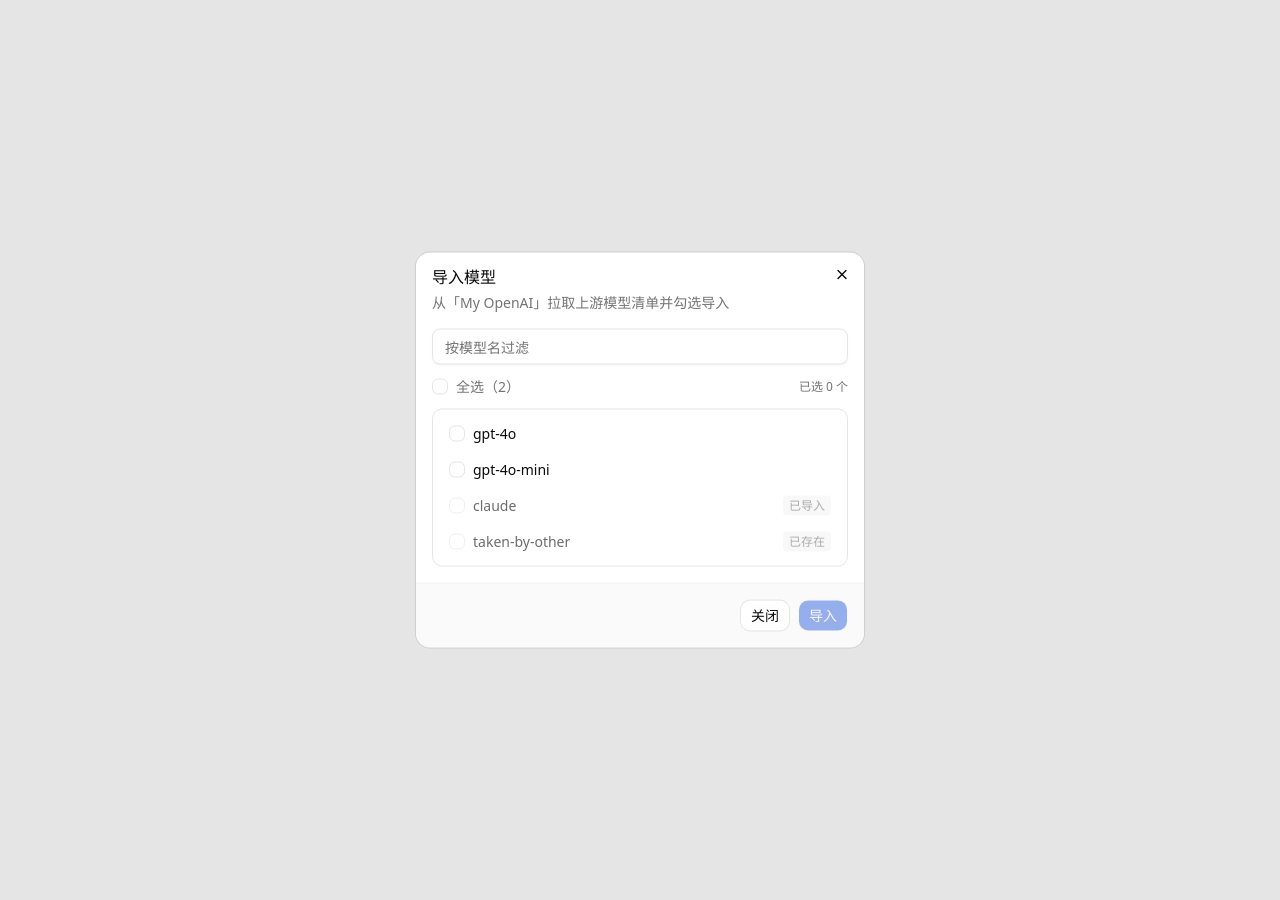
Test case: ImportModelsDialog › T-W18: does not report a successful import as failed when the follow-up refetch rejects (B-1)
Click the checkbox named "选择 gpt-4o".
click(457, 434)  # box left=449, top=426, right=465, bottom=442
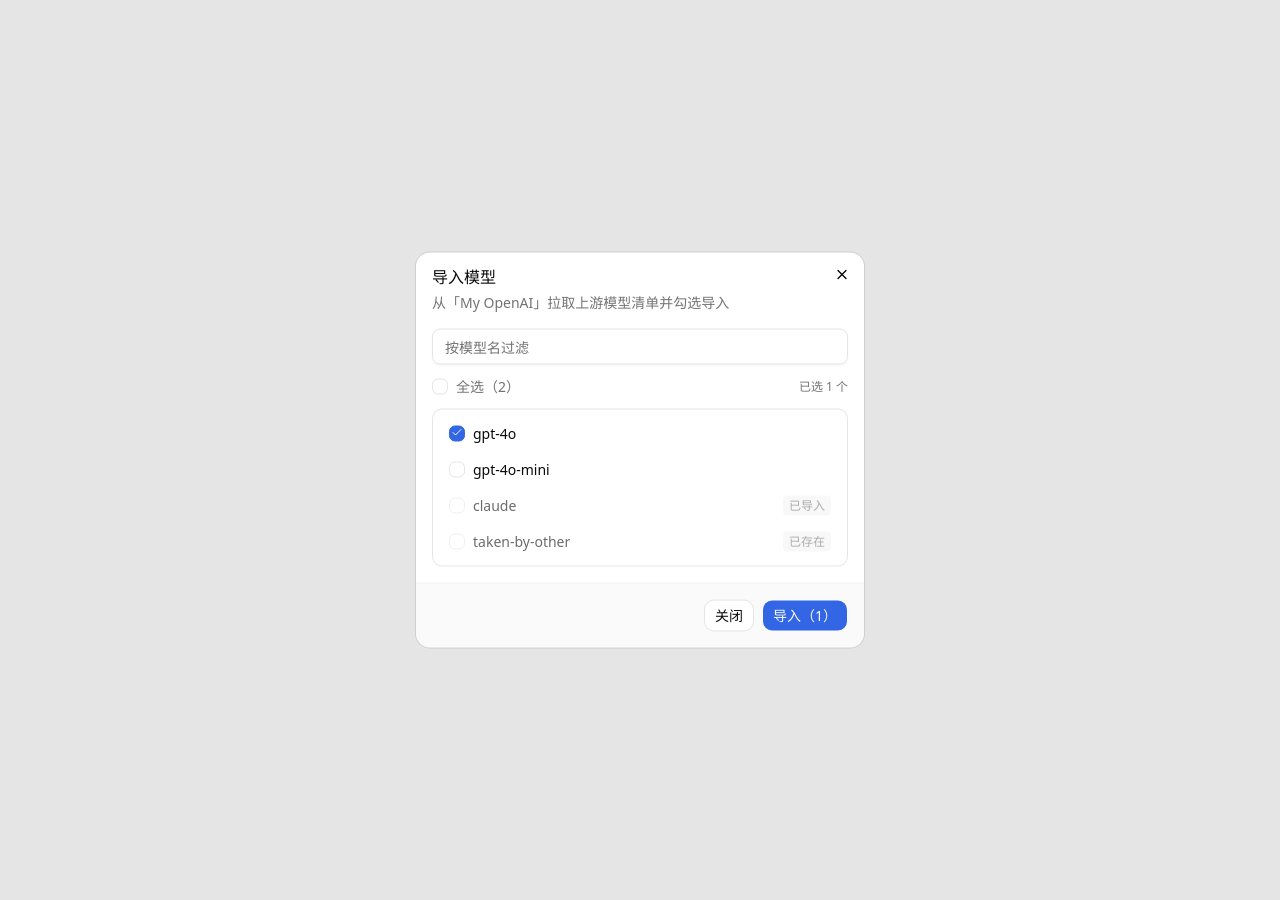
Click the button "导入（1）".
click(805, 616)  # box left=762, top=600, right=848, bottom=632
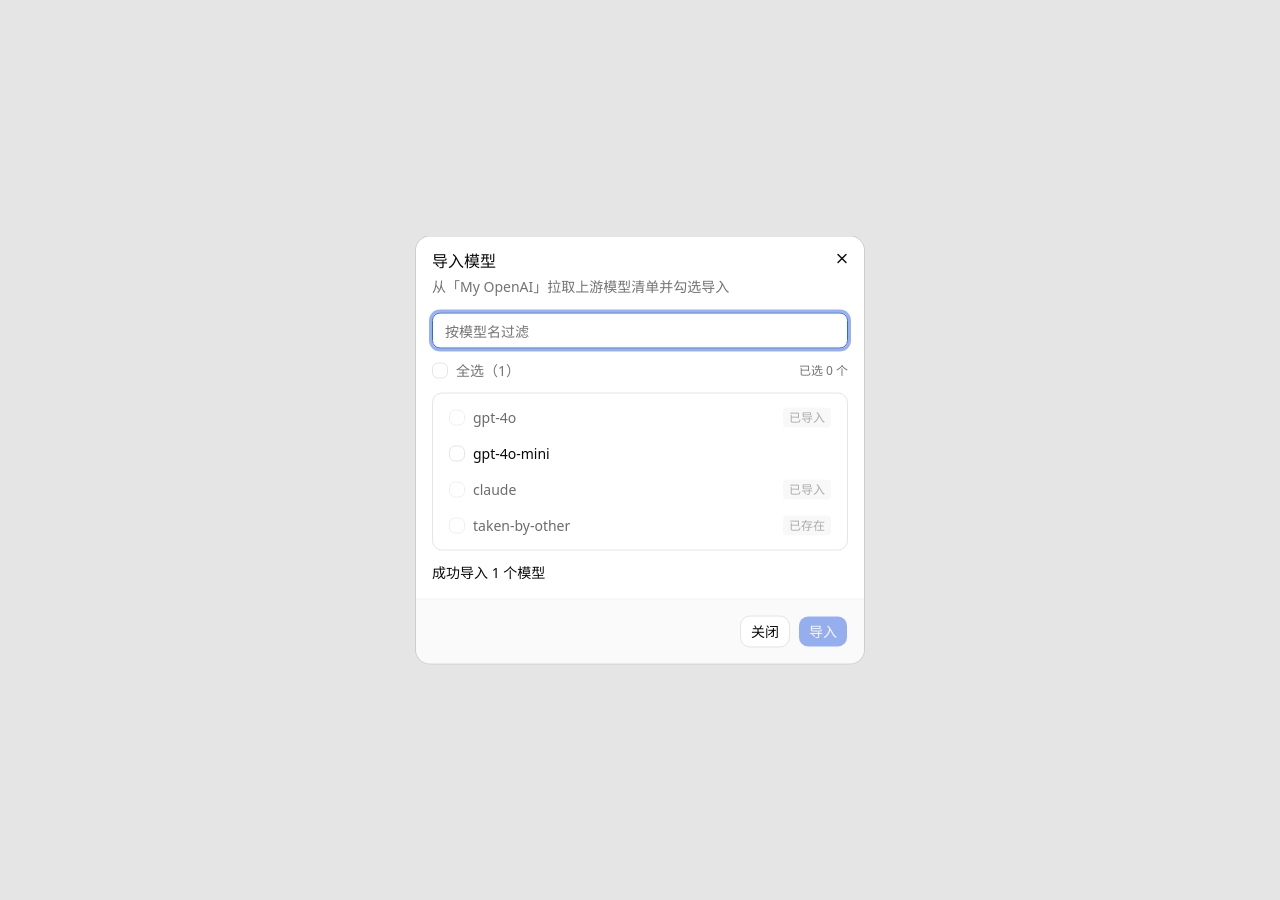
Expected: the text "成功导入 1 个模型" is shown, left=432, top=562, right=545, bottom=582
